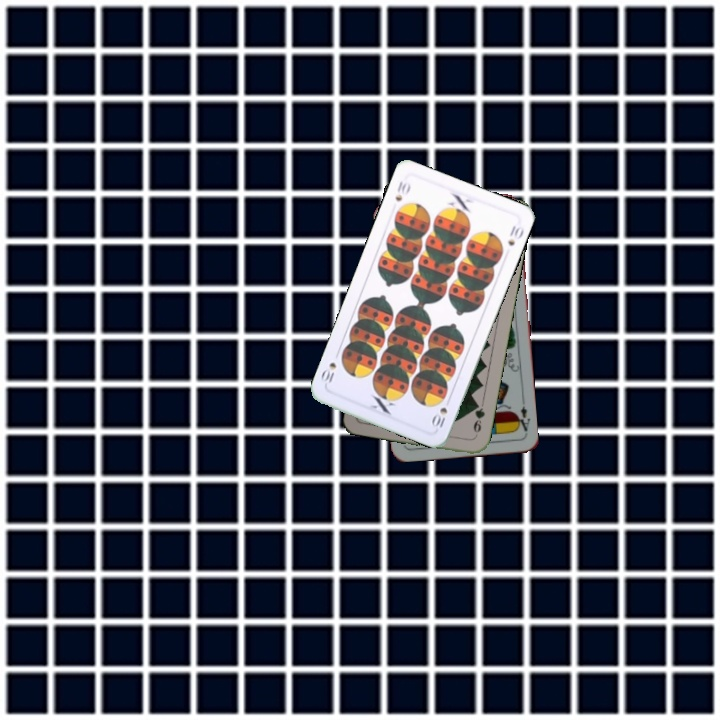EA: (512, 402, 532, 433)
G9: (469, 399, 487, 440)
S10: (428, 403, 450, 432), (391, 177, 413, 204)
